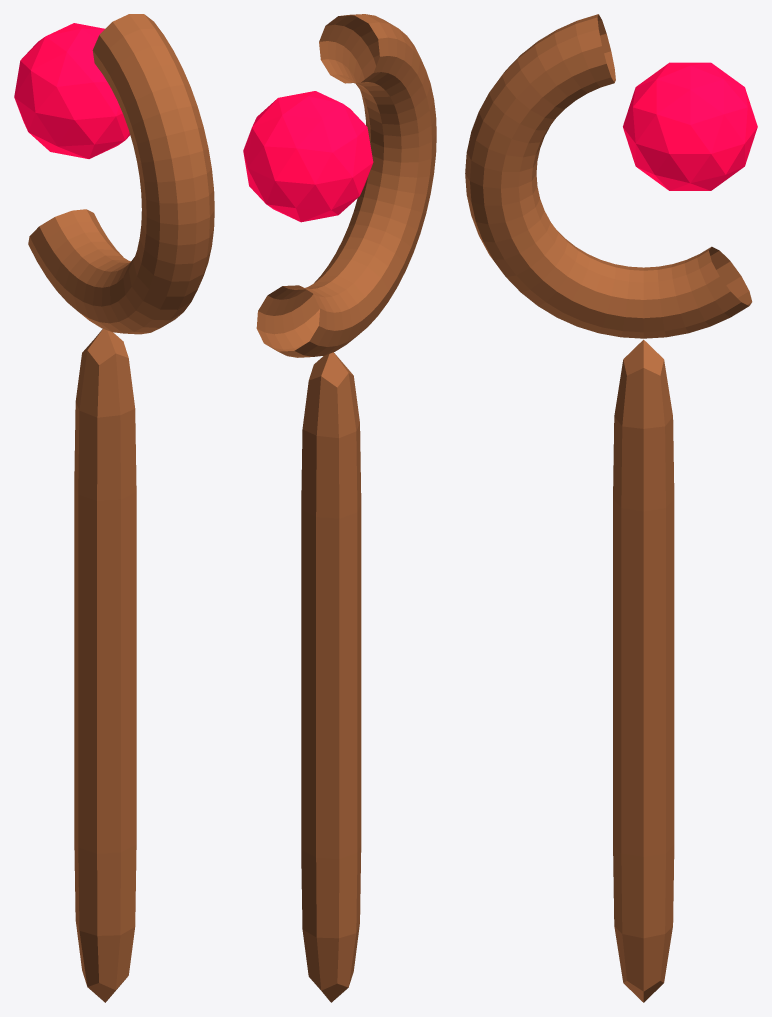
File: MagicWandn.fbx
The picture shows the model from 3 angles, left to right: view 1: azimuth 30°, elevation 25°; view 2: azimuth 150°, elevation 25°; view 3: azimuth 270°, elevation 25°; orthographic projection. The views are drawn at different scales.
Parts seen in each view (by area): view 1: 立方体, 环体, 棱角球; view 2: 立方体, 环体, 棱角球; view 3: 立方体, 环体, 棱角球.
Boxes of the visible parts, left/top/right/bottom form: 立方体: left=74, top=329, right=136, bottom=1002; 环体: left=28, top=14, right=214, bottom=334; 棱角球: left=14, top=23, right=129, bottom=158; 立方体: left=301, top=352, right=361, bottom=1002; 环体: left=256, top=14, right=436, bottom=357; 棱角球: left=243, top=91, right=373, bottom=222; 立方体: left=613, top=339, right=674, bottom=1002; 环体: left=465, top=14, right=752, bottom=338; 棱角球: left=623, top=62, right=757, bottom=190.
Bounding box in the file's own units: 57.53 × 131 × 487.
